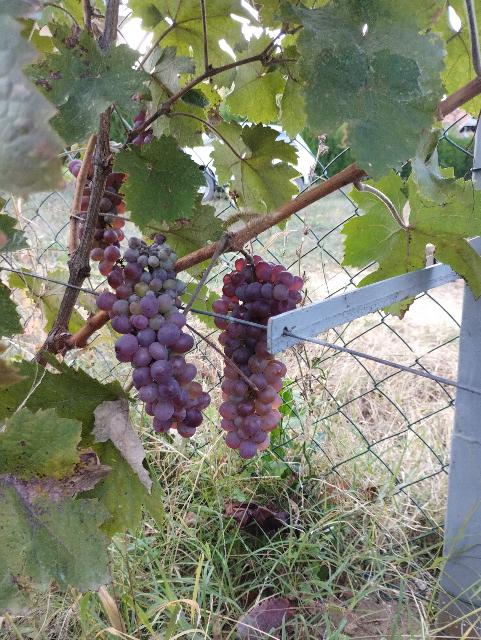grapes: (96, 234, 211, 438), (212, 250, 304, 459)
